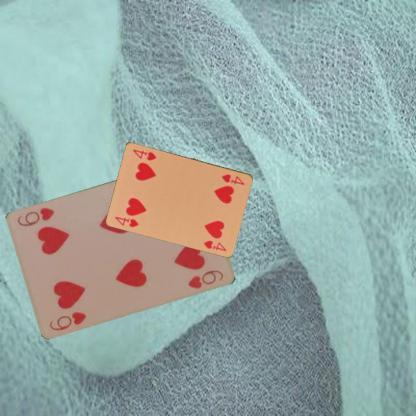4h: (219, 171, 246, 186), (112, 214, 140, 228)
6h: (47, 309, 88, 332)
